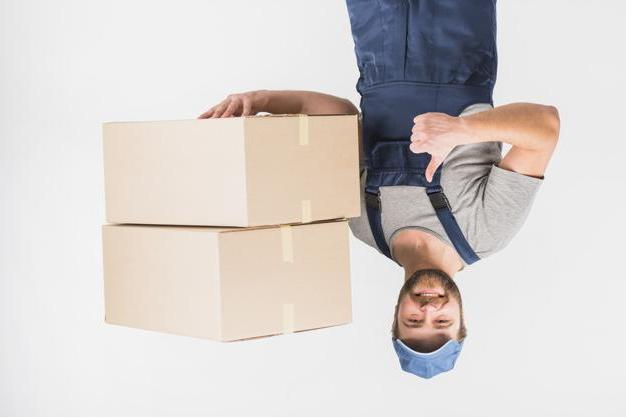thumbsdown: (409, 112, 442, 183)
